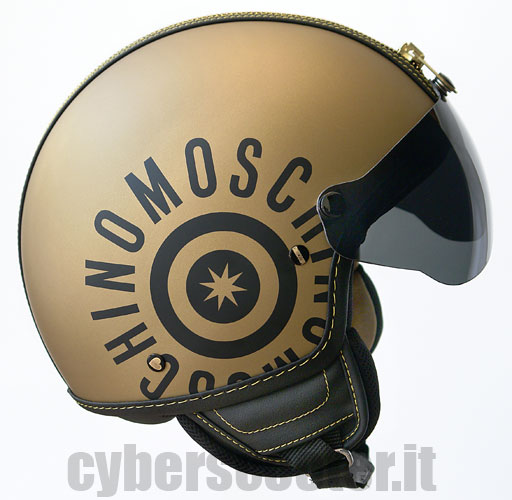helmet: (37, 45, 454, 415)
